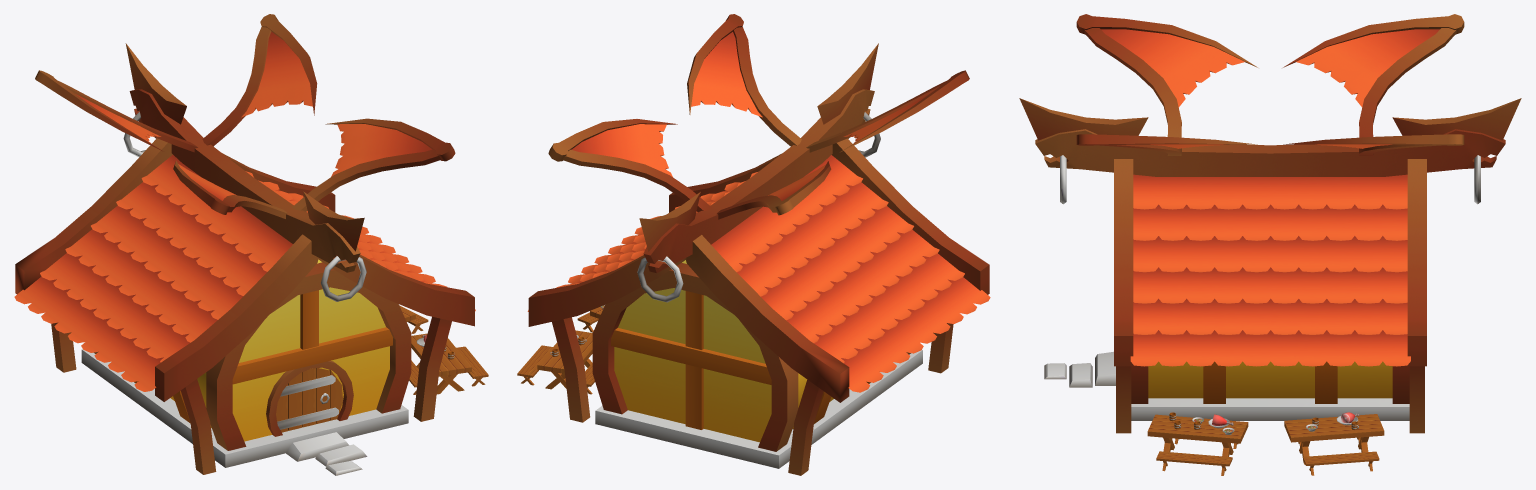
File: VikingHouse_05_XXL.fbx
The picture shows the model from 3 angles, left to right: view 1: azimuth 30°, elevation 25°; view 2: azimuth 150°, elevation 25°; view 3: azimuth 270°, elevation 25°; orthographic projection. The views are drawn at different scales.
Visible parts, largest first — view 1: VikingHouse_05_XXL; view 2: VikingHouse_05_XXL; view 3: VikingHouse_05_XXL.
Part boxes in pixels (x1,y1,x2,y2): VikingHouse_05_XXL: (14,14,488,475); VikingHouse_05_XXL: (517,14,990,475); VikingHouse_05_XXL: (1019,14,1521,475).
Bounding box in the file's own units: 721 × 534 × 809.
